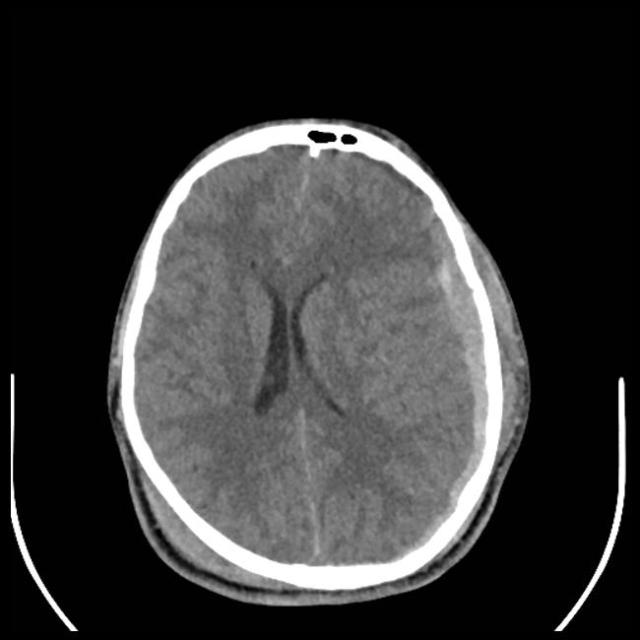lesion: (102, 114, 533, 605)
